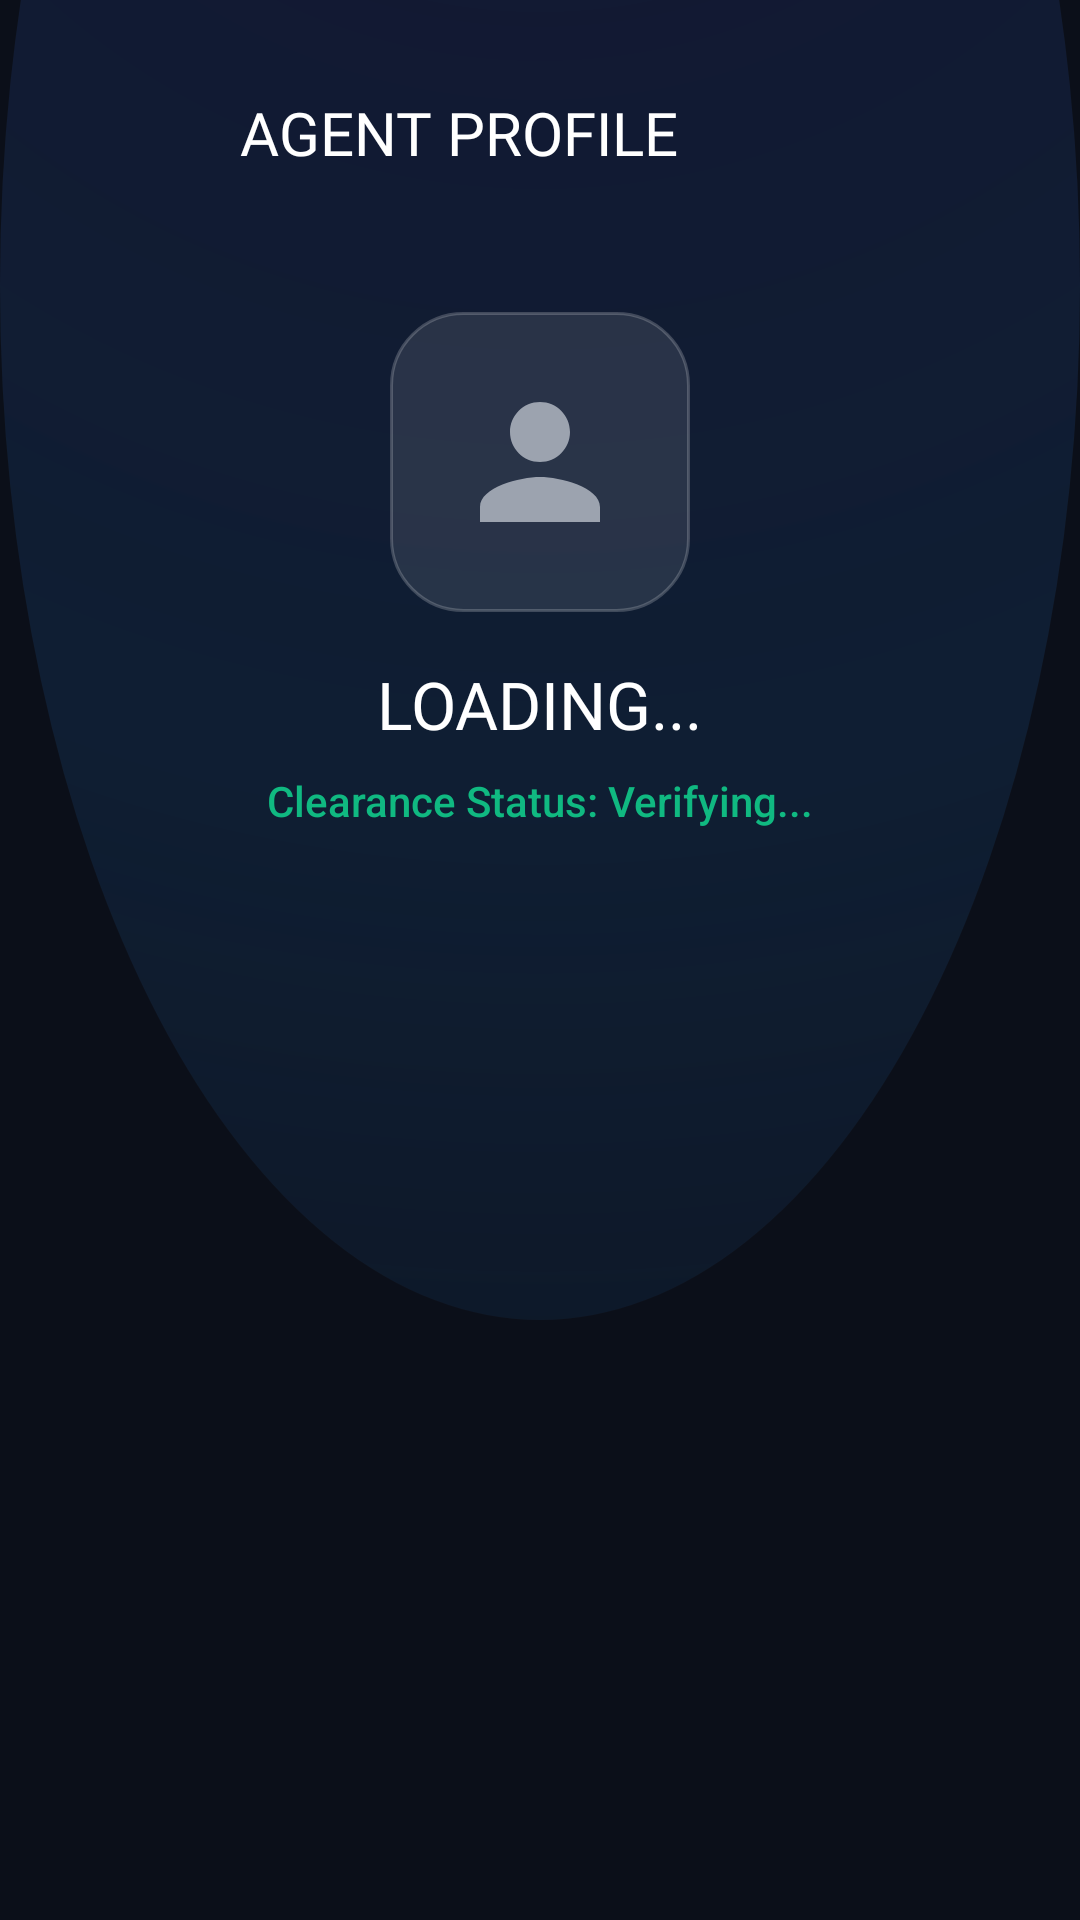

Icon click points for this 1080px x 1920px phone screenshot, format (x=x, y=y):
neon profile: (x=540, y=462)
